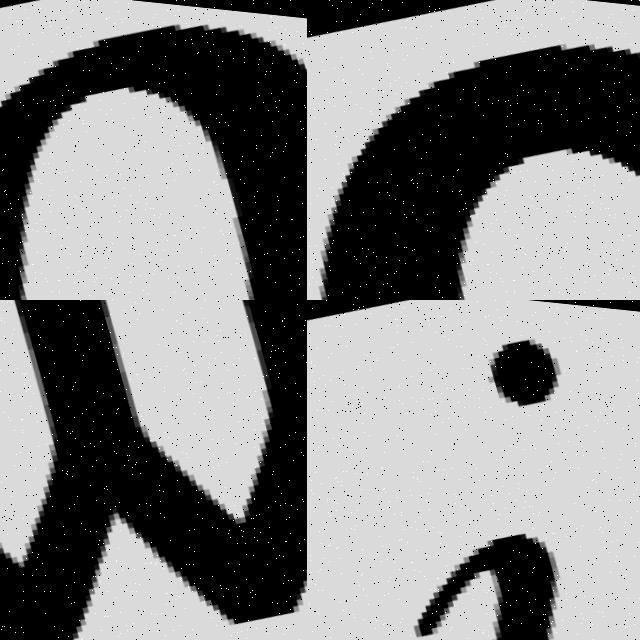I: (325, 310, 640, 640)
O: (0, 14, 307, 300), (318, 35, 640, 300)
W: (0, 300, 307, 640)
